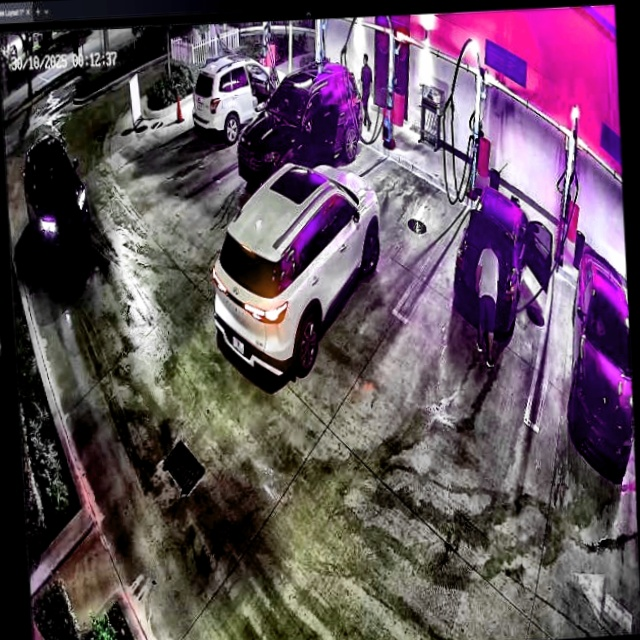Car: (205, 160, 387, 382), (236, 60, 364, 195), (451, 179, 556, 337)
